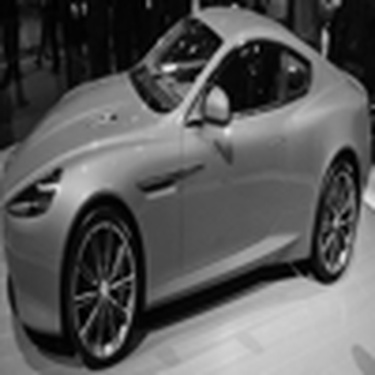car: (6, 1, 372, 371)
